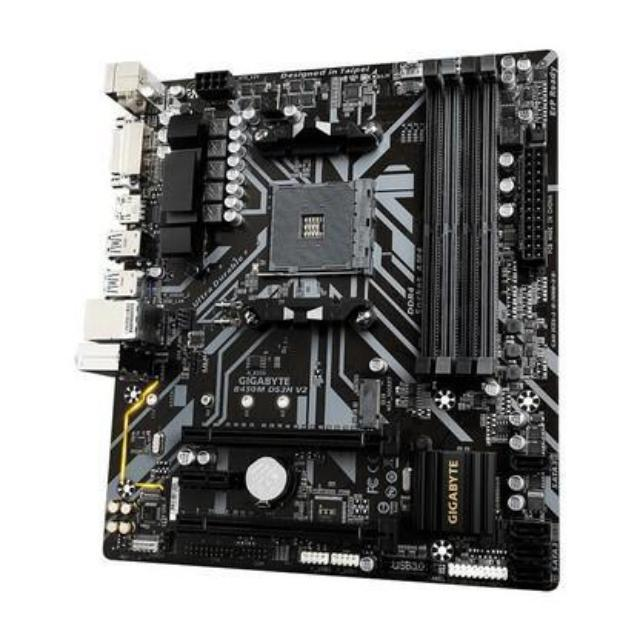Mainboard: (87, 47, 570, 595)
